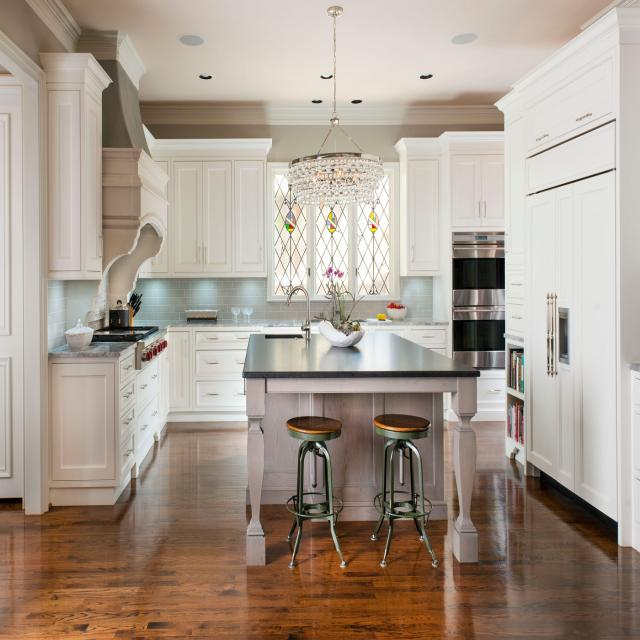Appliance_Oven: (452, 229, 505, 306), (453, 309, 505, 369)
Appliance_Sink: (265, 286, 311, 345)
Appliance_Stove: (92, 326, 168, 370)
Cabinet_Inset: (505, 5, 640, 555)
Cabinet_Shaker: (382, 133, 505, 354), (116, 329, 255, 479), (137, 162, 263, 279), (79, 97, 102, 276), (476, 371, 505, 423)
Countertop_Granite: (132, 319, 302, 331), (357, 318, 449, 327), (90, 342, 134, 352), (48, 345, 92, 353)
Countertop_Solid_Surface: (242, 332, 481, 379)
